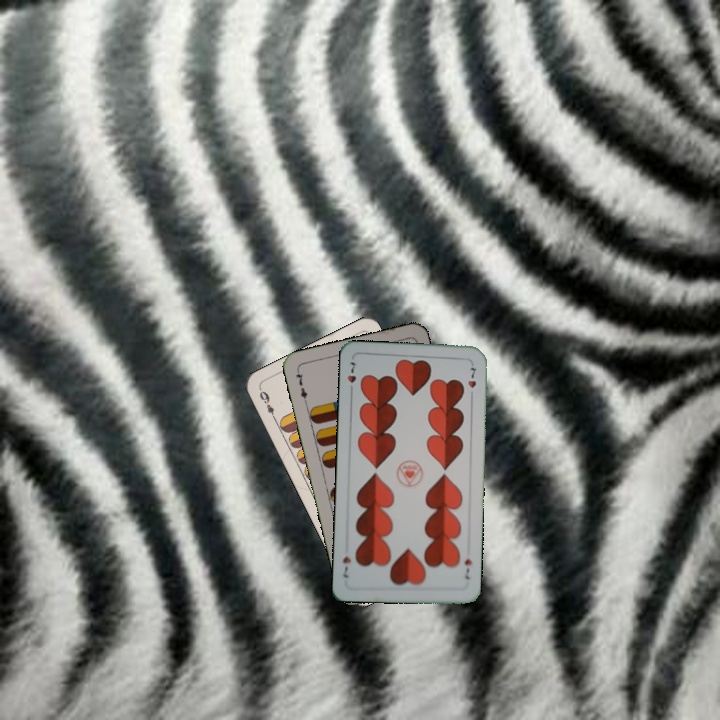E7: (291, 366, 310, 406)
E9: (255, 387, 279, 423)
H7: (344, 357, 359, 396), (460, 555, 474, 582)
